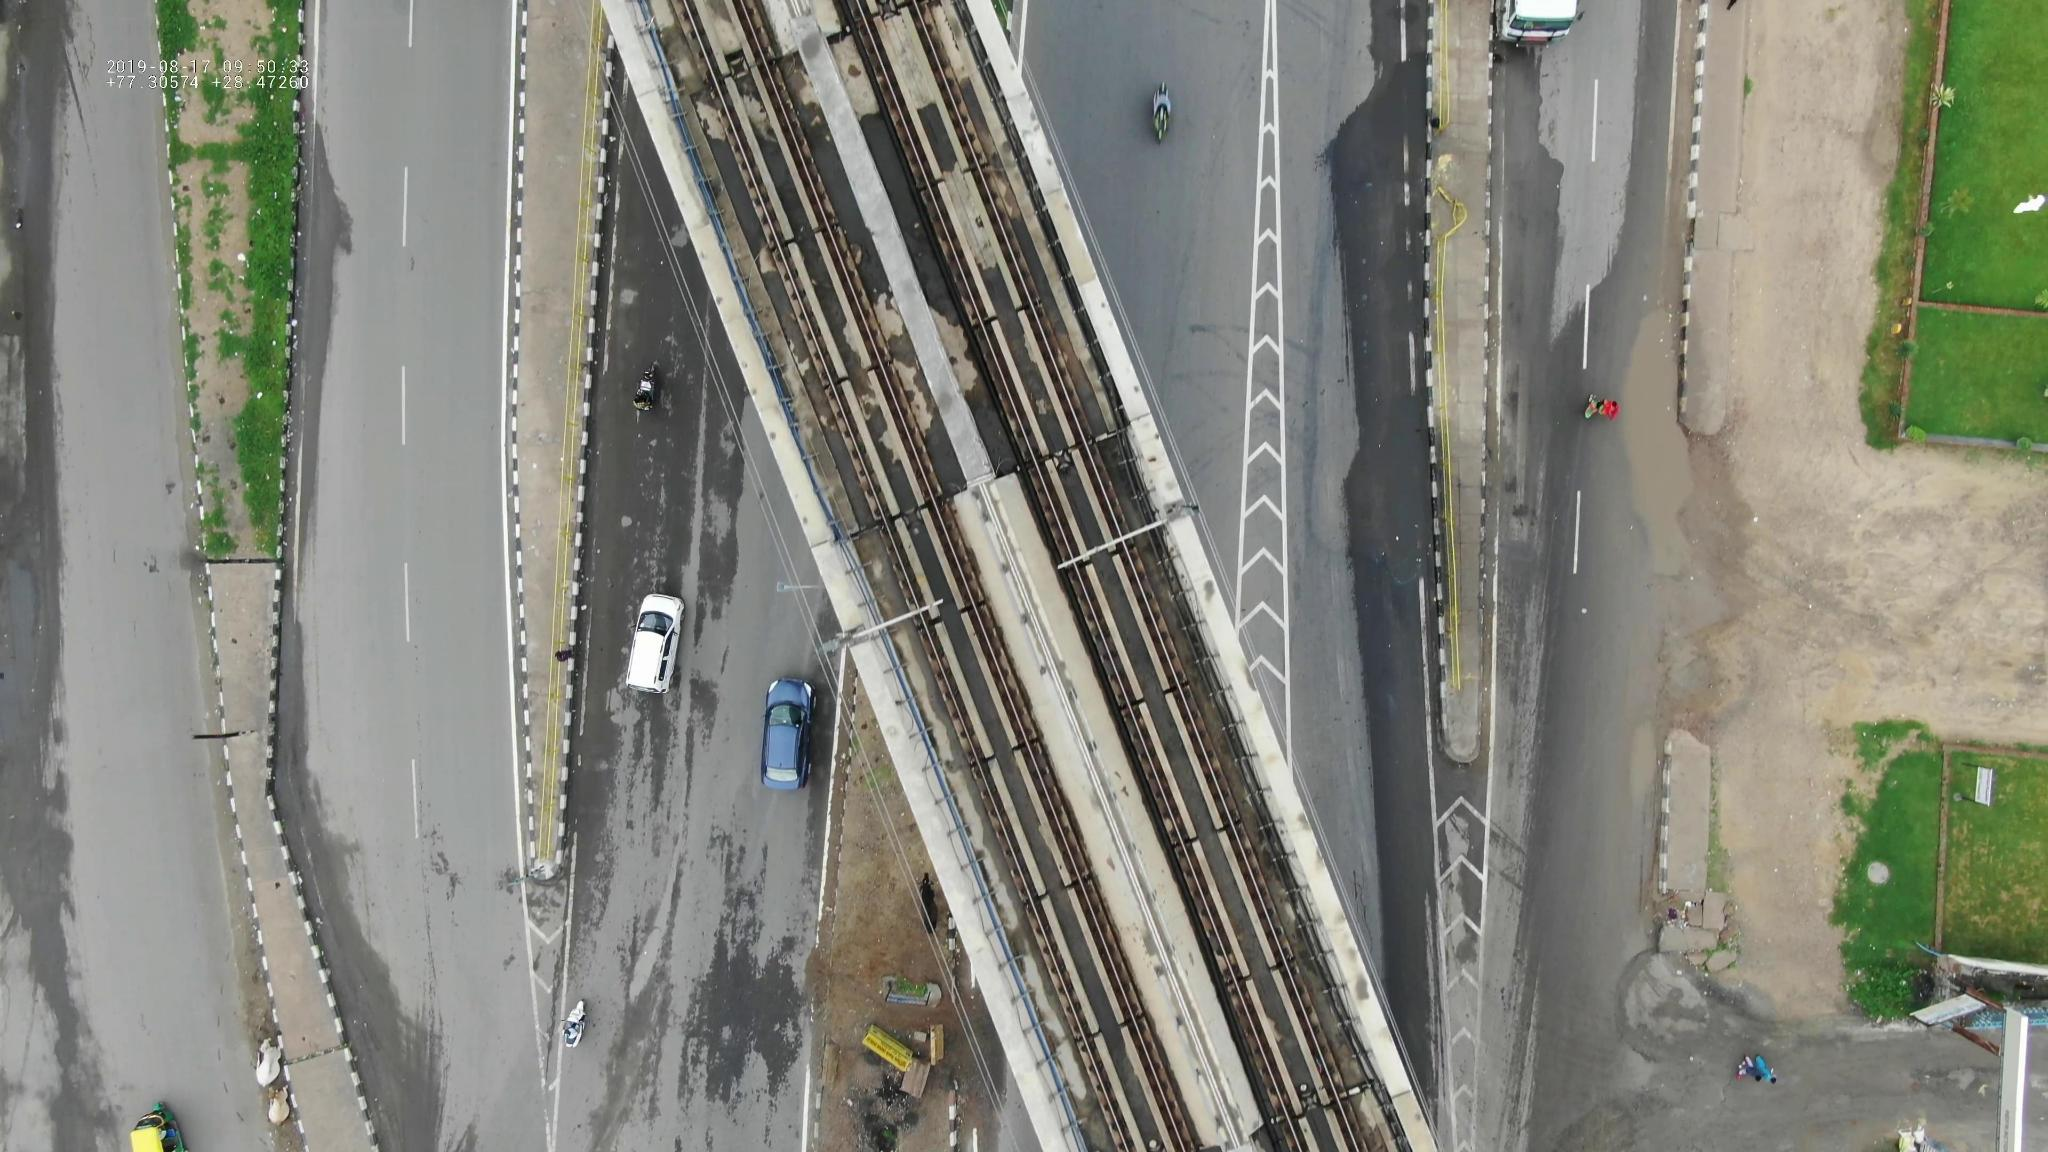Muddy_road: (1625, 301, 1702, 572)
